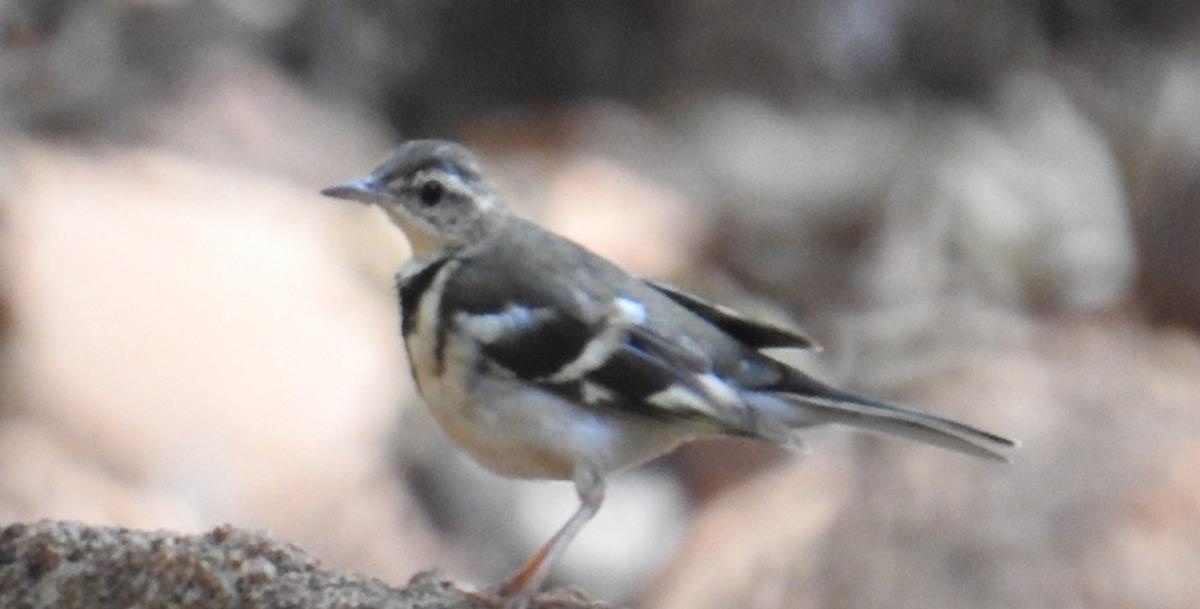wagtail: (298, 95, 1081, 566)
